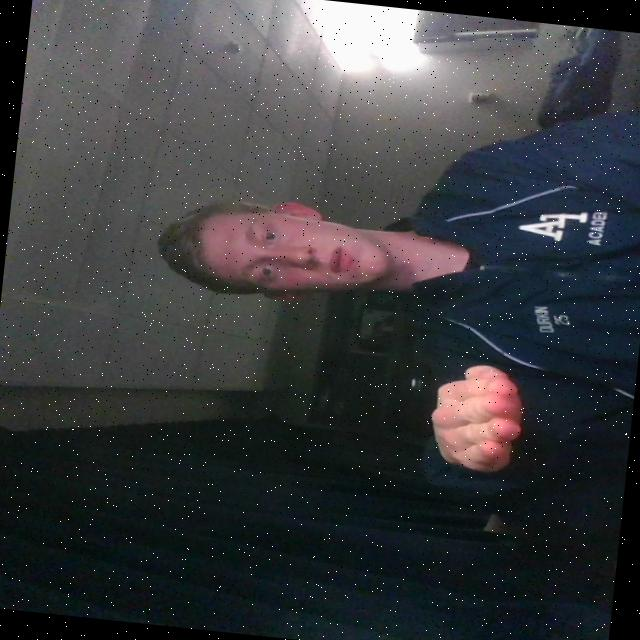paper: (421, 355, 532, 475)
